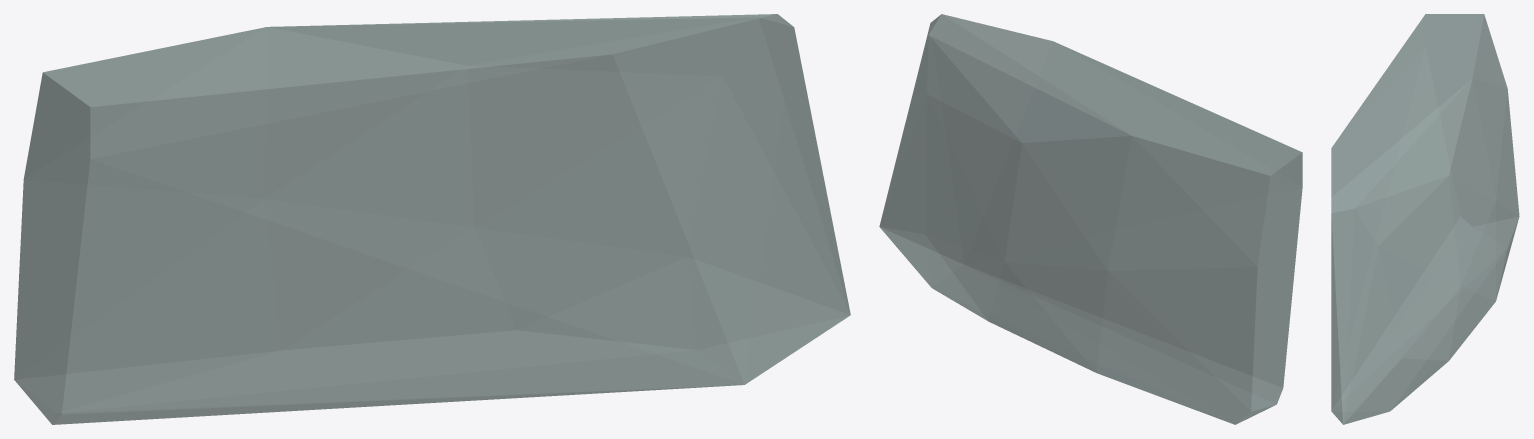
3 views of the same model, side by side, from view 1: azimuth 30°, elevation 25°; view 2: azimuth 150°, elevation 25°; view 3: azimuth 270°, elevation 25° (orthographic). The views are drawn at different scales.
Parts seen in each view (by area): view 1: Shape_IndexedFaceSet.010_Shape_IndexedFaceSet.17585; view 2: Shape_IndexedFaceSet.010_Shape_IndexedFaceSet.17585; view 3: Shape_IndexedFaceSet.010_Shape_IndexedFaceSet.17585.
Part boxes in pixels (x1,y1,x2,y2): Shape_IndexedFaceSet.010_Shape_IndexedFaceSet.17585: (14, 14, 850, 424); Shape_IndexedFaceSet.010_Shape_IndexedFaceSet.17585: (879, 14, 1302, 424); Shape_IndexedFaceSet.010_Shape_IndexedFaceSet.17585: (1331, 14, 1519, 424).
Bounding box in the file's own units: 0.074 × 0.037 × 0.0282.
